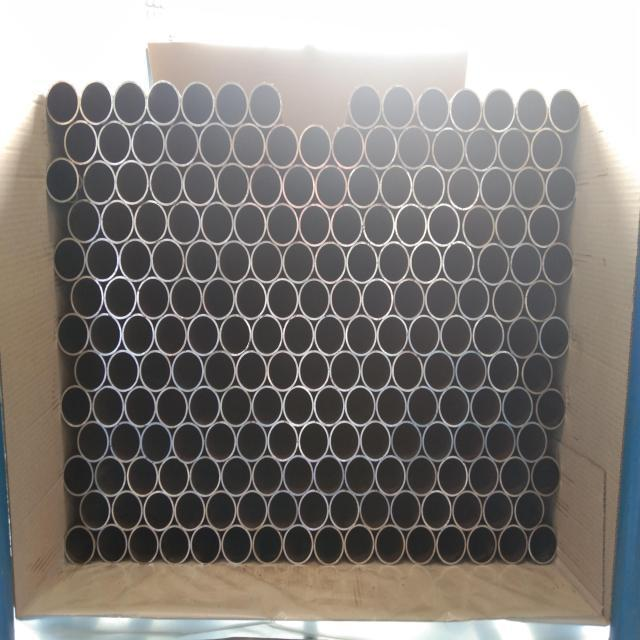pipe: (146, 79, 182, 127), (44, 158, 82, 203), (247, 82, 283, 129), (396, 124, 432, 171), (81, 159, 117, 206), (63, 118, 99, 165), (198, 121, 233, 169), (231, 121, 266, 169), (165, 120, 200, 168), (249, 162, 284, 210), (348, 83, 383, 130), (265, 123, 300, 170), (431, 126, 466, 173), (131, 120, 166, 167), (363, 123, 398, 170), (115, 159, 150, 206), (482, 86, 517, 133), (497, 126, 532, 173), (113, 79, 148, 126), (79, 78, 114, 125), (97, 119, 132, 166), (515, 85, 549, 133), (415, 86, 451, 131), (412, 164, 447, 210), (214, 82, 249, 128), (167, 200, 202, 246), (180, 81, 215, 127), (381, 84, 416, 130), (200, 201, 235, 247), (448, 87, 483, 133), (134, 199, 169, 245), (45, 79, 80, 125), (183, 161, 217, 208), (216, 161, 250, 208), (379, 163, 413, 210), (314, 163, 348, 210), (464, 126, 498, 173), (67, 197, 101, 244), (461, 204, 496, 249), (426, 203, 461, 248), (446, 166, 481, 211), (103, 275, 138, 320), (151, 238, 186, 283), (100, 199, 135, 244), (512, 165, 546, 211), (149, 161, 183, 207), (233, 201, 267, 247), (530, 127, 564, 173), (331, 124, 365, 170), (119, 237, 153, 283), (298, 124, 332, 170), (282, 162, 315, 209), (548, 86, 581, 133), (347, 163, 380, 210), (476, 242, 511, 286), (442, 241, 477, 285), (495, 204, 529, 249), (479, 166, 513, 211), (136, 276, 170, 321), (70, 275, 104, 320), (185, 239, 219, 284), (85, 237, 119, 282), (330, 202, 363, 248), (266, 202, 299, 248), (298, 202, 331, 248), (457, 278, 492, 321), (52, 238, 87, 281), (154, 313, 188, 357), (527, 204, 561, 248), (169, 276, 203, 320), (202, 277, 236, 321), (89, 312, 123, 356), (395, 203, 428, 248), (362, 202, 395, 247), (218, 239, 251, 284), (314, 240, 347, 285), (250, 240, 283, 285), (282, 240, 315, 285), (378, 240, 411, 285), (471, 315, 506, 357), (139, 349, 173, 392), (203, 349, 237, 392), (491, 279, 525, 322), (506, 316, 540, 359), (155, 386, 189, 429), (187, 385, 221, 428), (91, 385, 125, 428), (121, 313, 155, 356), (74, 350, 108, 393), (510, 242, 543, 286), (524, 279, 557, 323), (542, 242, 575, 286), (187, 313, 220, 357), (410, 240, 443, 284), (346, 241, 379, 285), (545, 166, 577, 211), (486, 351, 520, 393), (56, 313, 90, 355), (171, 350, 204, 393), (204, 420, 237, 463), (440, 314, 473, 357), (219, 314, 252, 357), (425, 278, 458, 321), (251, 314, 284, 357), (235, 278, 268, 321), (235, 349, 268, 392), (361, 278, 394, 321), (330, 278, 363, 321), (423, 349, 456, 392), (376, 314, 409, 357), (484, 421, 517, 464), (251, 384, 284, 427), (393, 278, 426, 321), (298, 278, 331, 321), (266, 278, 299, 321), (124, 385, 157, 428), (314, 314, 347, 357), (107, 349, 140, 392), (172, 422, 205, 464), (455, 350, 488, 392), (453, 421, 486, 463), (140, 422, 173, 464), (501, 386, 534, 428), (109, 421, 142, 463), (391, 350, 424, 392), (520, 353, 553, 395), (205, 490, 238, 532), (408, 314, 441, 356), (470, 386, 503, 428), (60, 385, 93, 427), (538, 316, 571, 358), (77, 421, 110, 463), (438, 386, 471, 428), (63, 524, 96, 566), (405, 455, 438, 497), (390, 420, 423, 462), (79, 489, 112, 531), (345, 314, 377, 357), (283, 314, 315, 357), (328, 488, 360, 531), (157, 456, 190, 497), (143, 490, 176, 531), (534, 388, 567, 429), (189, 456, 222, 497), (111, 490, 144, 531), (94, 456, 127, 497), (499, 456, 532, 497), (237, 490, 269, 532), (236, 420, 268, 462), (329, 350, 361, 392), (174, 490, 206, 532), (360, 350, 392, 392), (298, 350, 330, 392), (283, 385, 315, 427), (298, 489, 330, 531), (267, 350, 299, 392), (252, 455, 284, 497), (221, 455, 253, 497), (422, 421, 454, 463), (345, 385, 377, 427), (314, 385, 346, 427), (283, 454, 315, 496), (482, 490, 514, 532), (468, 455, 500, 497), (451, 490, 483, 532), (421, 490, 453, 532), (359, 489, 391, 531), (267, 489, 299, 531), (376, 385, 408, 427), (375, 454, 407, 496), (313, 454, 345, 496), (390, 489, 422, 531), (344, 454, 376, 496), (267, 420, 299, 462), (407, 385, 439, 427), (127, 524, 160, 564), (126, 456, 158, 497), (516, 422, 548, 463), (298, 421, 330, 462), (220, 386, 252, 427), (360, 420, 392, 461), (437, 456, 469, 497), (329, 420, 361, 461), (344, 523, 375, 565), (314, 524, 345, 566), (406, 524, 437, 566), (436, 524, 467, 566), (63, 455, 94, 497), (514, 490, 545, 532), (159, 525, 191, 565), (96, 523, 128, 563), (252, 524, 284, 564), (283, 524, 314, 565), (531, 456, 562, 497), (467, 524, 498, 565), (375, 524, 406, 565), (498, 524, 529, 565), (528, 524, 559, 565), (222, 524, 253, 564), (191, 524, 222, 564)
